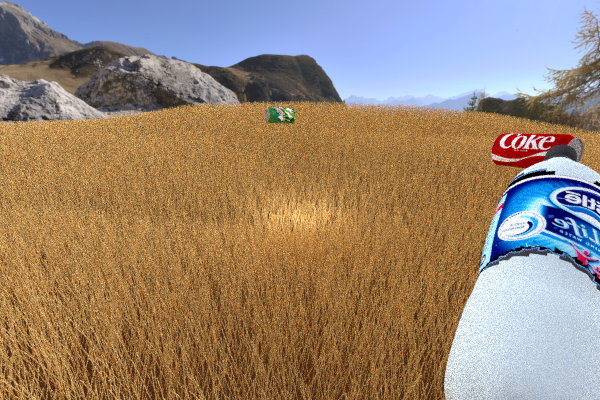bottle: (444, 144, 600, 400)
can: (490, 133, 584, 172), (264, 107, 295, 123)
